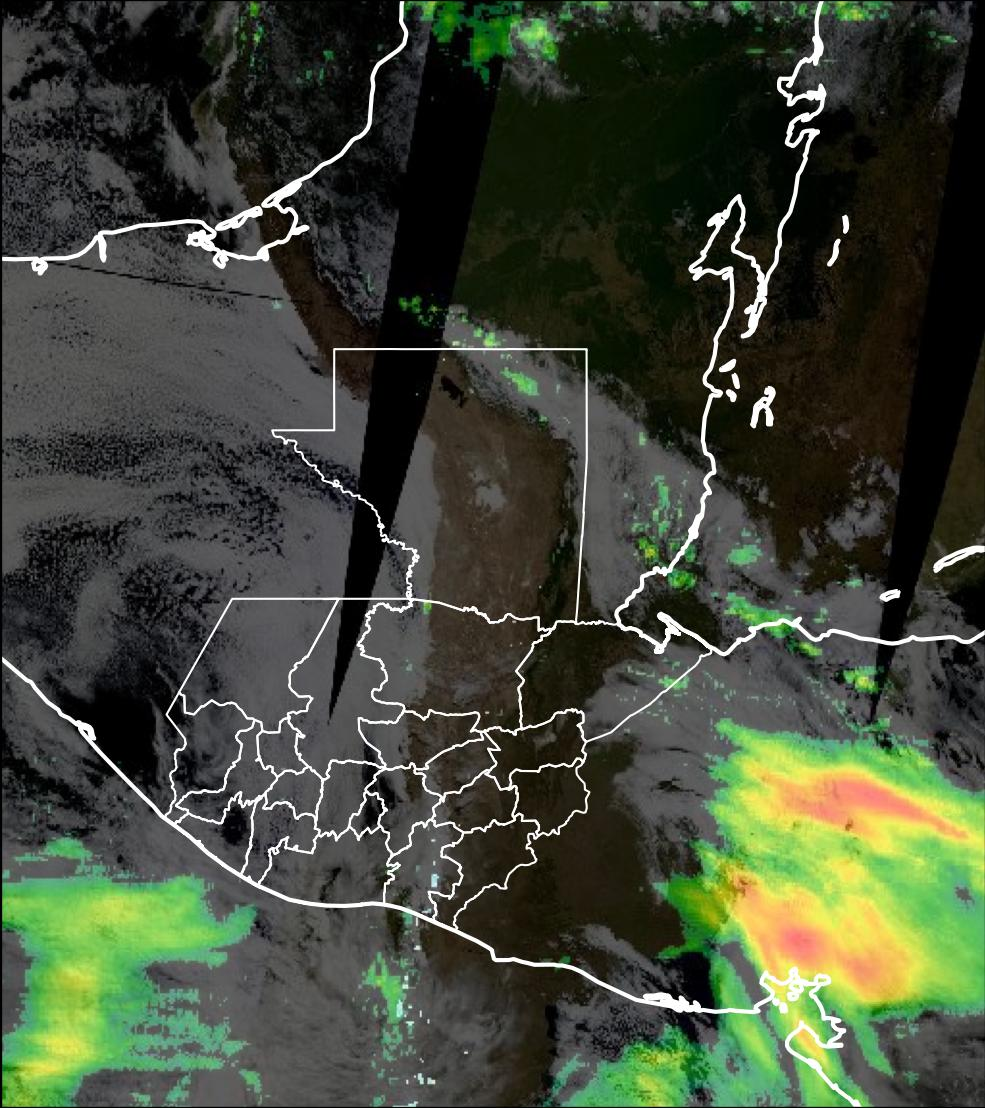precipitacion: (739, 740, 985, 874)
